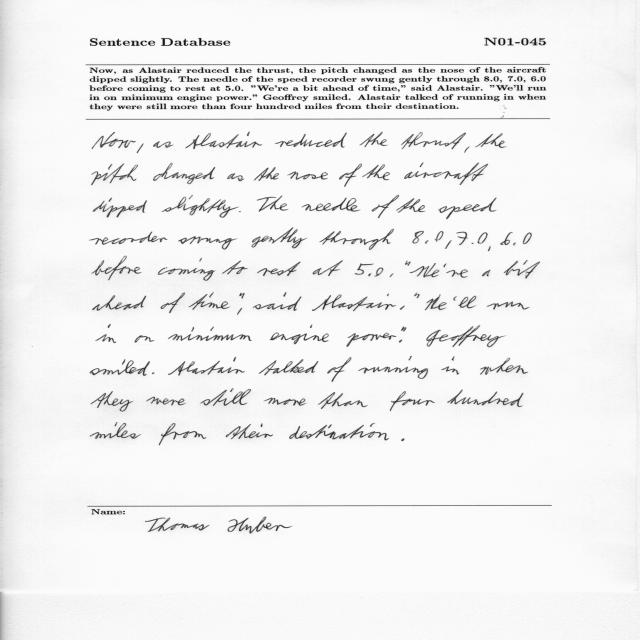word: (404, 162, 488, 185), (162, 195, 239, 218), (426, 325, 505, 347), (289, 423, 389, 440), (359, 356, 429, 379), (319, 229, 394, 250), (168, 357, 245, 376), (312, 294, 396, 311), (447, 389, 524, 407), (158, 258, 216, 281), (185, 132, 262, 149), (153, 163, 215, 184), (168, 326, 252, 341), (347, 326, 407, 347), (438, 198, 497, 219), (92, 256, 142, 280), (270, 325, 329, 345), (252, 228, 308, 248), (401, 132, 466, 149), (275, 133, 347, 148), (159, 423, 207, 445), (93, 198, 147, 217), (90, 359, 150, 376), (189, 292, 245, 310), (259, 359, 318, 376), (90, 232, 167, 245), (92, 164, 138, 185), (201, 388, 251, 406), (390, 391, 435, 411), (91, 391, 133, 412), (90, 422, 141, 439), (93, 295, 147, 311), (318, 392, 368, 409), (302, 198, 361, 212), (179, 236, 238, 250), (480, 358, 528, 375), (226, 424, 273, 440), (92, 132, 136, 149), (253, 296, 302, 311), (504, 260, 540, 279), (456, 232, 491, 251), (372, 195, 399, 218), (257, 262, 301, 276), (327, 357, 351, 382), (339, 163, 362, 187), (257, 195, 289, 212), (160, 293, 185, 313), (475, 133, 507, 148), (313, 260, 343, 276), (362, 164, 390, 180), (396, 198, 425, 213), (360, 132, 388, 147), (410, 263, 440, 277), (500, 232, 532, 245), (413, 231, 444, 244), (96, 324, 116, 343), (355, 264, 383, 277), (441, 356, 460, 375), (146, 397, 186, 406), (425, 295, 447, 311), (254, 167, 279, 181), (487, 302, 530, 310), (222, 261, 248, 274), (444, 264, 468, 278), (264, 398, 306, 406), (287, 172, 328, 180), (454, 296, 477, 308), (153, 141, 174, 148), (135, 336, 155, 343), (227, 173, 244, 181), (137, 144, 144, 154), (445, 240, 452, 249), (482, 270, 491, 276), (414, 293, 420, 299), (237, 308, 242, 315), (465, 147, 470, 153), (405, 261, 410, 266), (400, 305, 405, 310), (390, 274, 394, 278), (284, 292, 287, 297), (401, 438, 405, 441), (399, 340, 402, 343), (152, 372, 154, 374), (239, 211, 241, 212)
